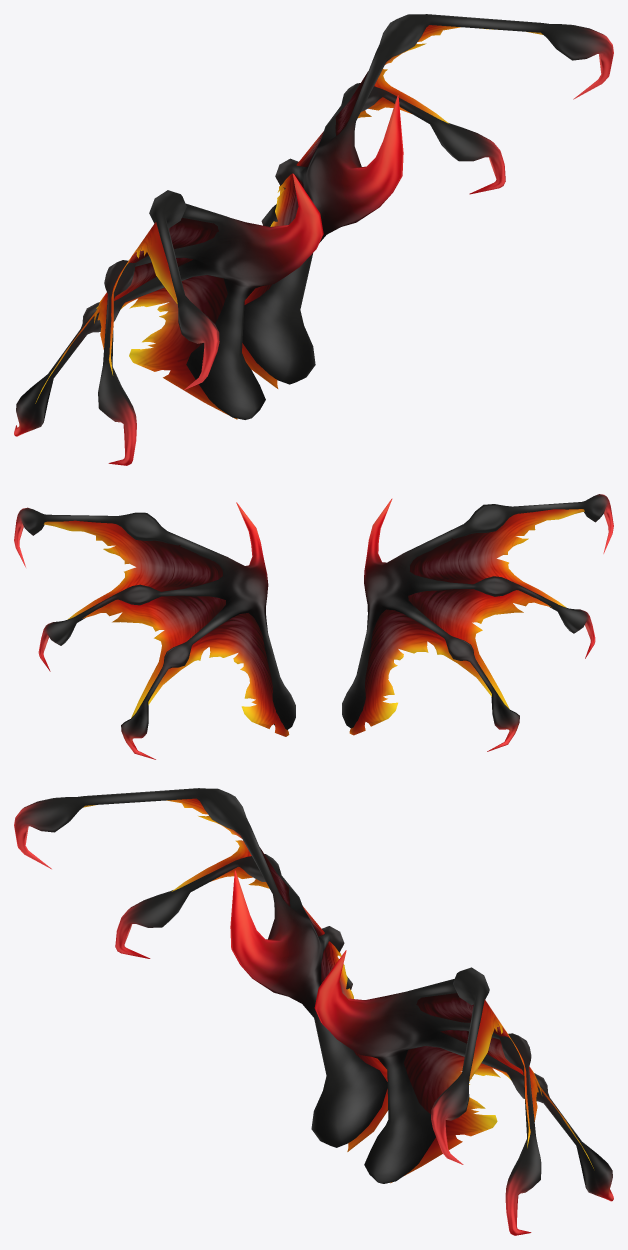
Rendered from BoneWings.glb.
The picture shows the model from 3 angles, top to bottom: view 1: azimuth 30°, elevation 25°; view 2: azimuth 150°, elevation 25°; view 3: azimuth 270°, elevation 25°; orthographic projection. The views are drawn at different scales.
Parts seen in each view (by area): view 1: Vert; view 2: Vert; view 3: Vert.
Part boxes in pixels (x1,y1,x2,y2): Vert: [14, 14, 613, 465]; Vert: [14, 494, 613, 759]; Vert: [14, 788, 613, 1235].
Size of the model in its own units: 5.73 by 2.58 by 4.69.
Materials: 1 (1 with a texture image).
